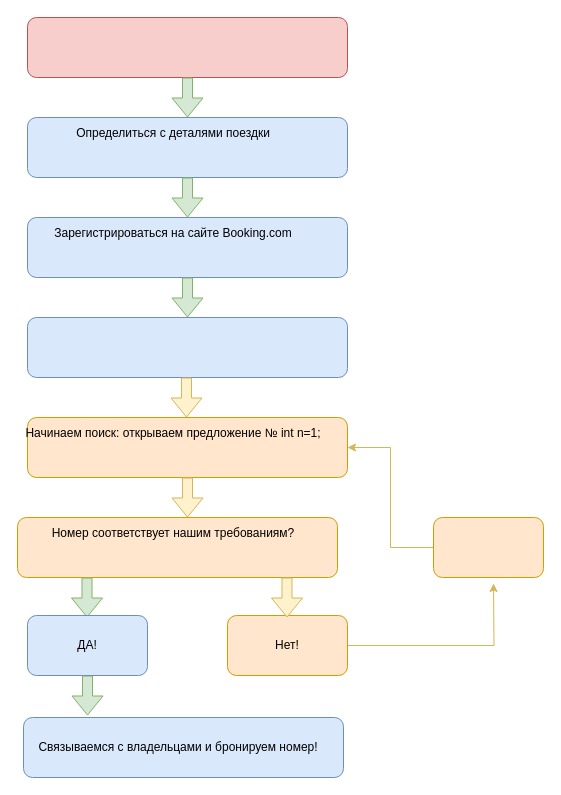
Some shapes in this 561 by 795 pixel diagram are drawn without their labels. Here are the shapes that lost their labels. From the top down, the centre of each, then its label:
At point (187, 47): "Собрать друзей в поездку".
At point (187, 347): "Ввести в поля поиска полученные ранее данные".
At point (488, 547): "n++".
